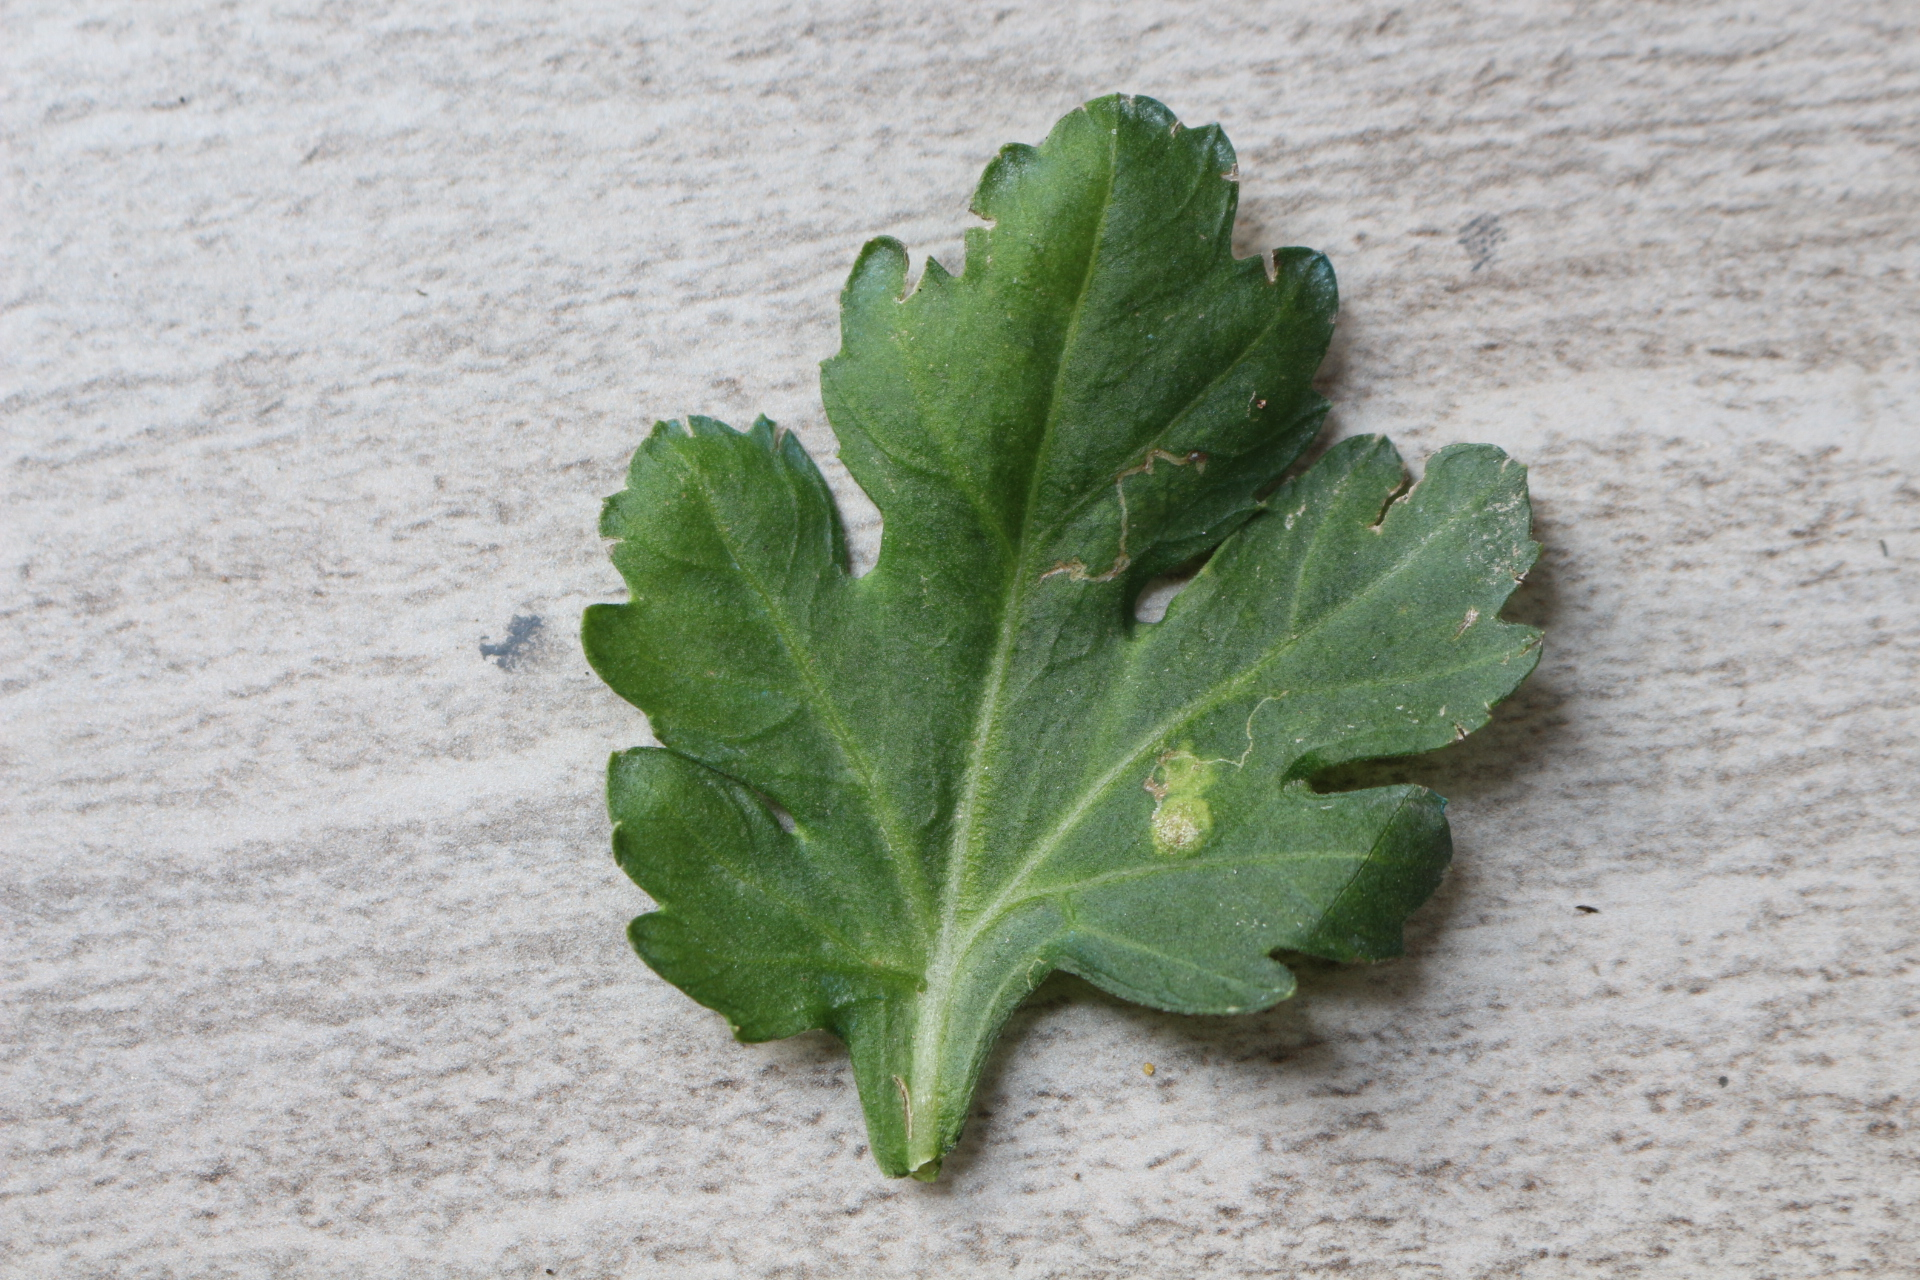namsung: (1134, 736, 1229, 856)
